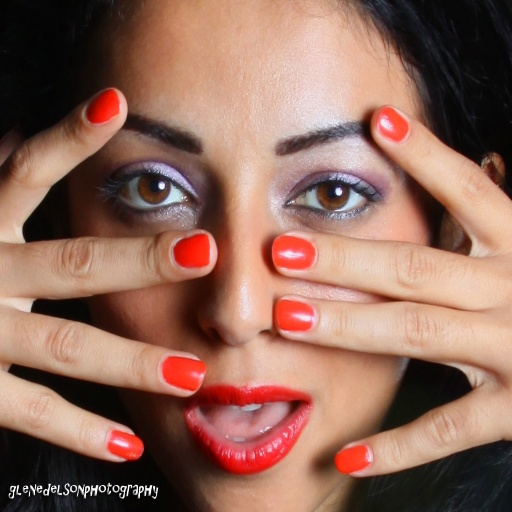hand: (0, 84, 218, 462), (313, 95, 512, 433)
